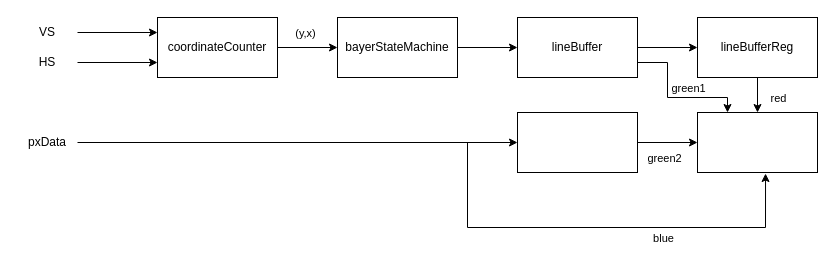
Image size: 835x262. Some labels were removed from this diagram. The box of each missing label's shape, as (x1, y1, x2, y2) in pixels:
greyscale: (696, 112, 818, 172)
pxReg (stores green): (516, 112, 638, 172)
